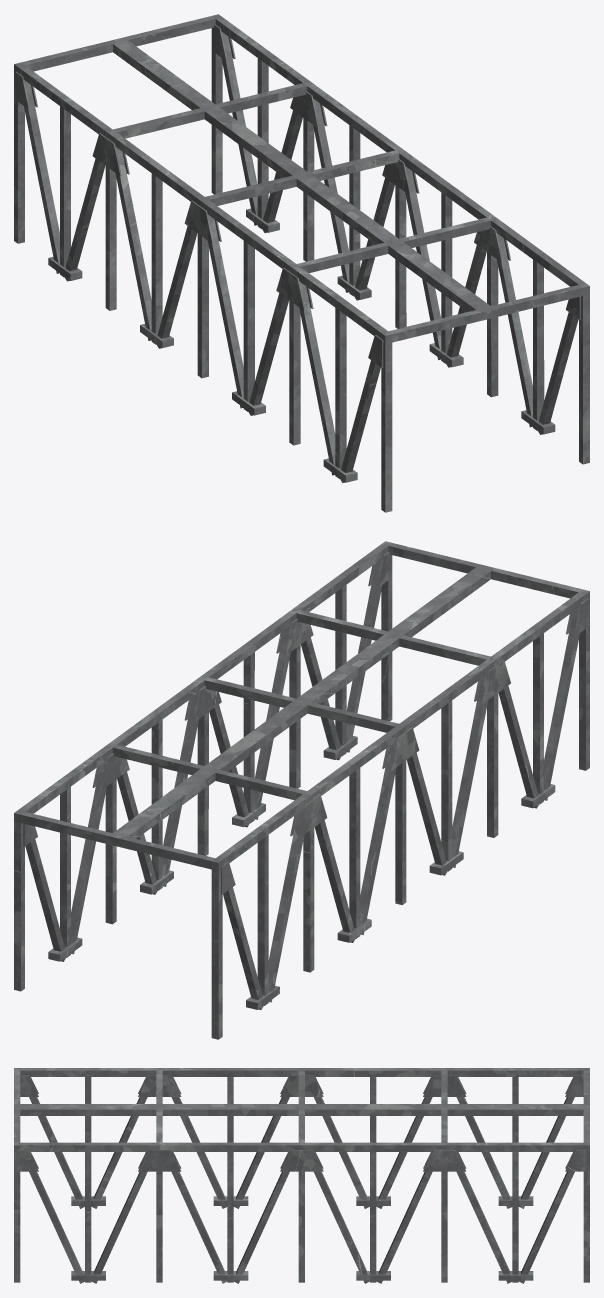
File: Bridge.fbx
The picture shows the model from 3 angles, top to bottom: view 1: azimuth 30°, elevation 25°; view 2: azimuth 150°, elevation 25°; view 3: azimuth 270°, elevation 25°; orthographic projection. The views are drawn at different scales.
Parts seen in each view (by area): view 1: 497cf374499741e096242c60b124319f.obj.001; view 2: 497cf374499741e096242c60b124319f.obj.001; view 3: 497cf374499741e096242c60b124319f.obj.001.
Part boxes in pixels (x1,y1,x2,y2): 497cf374499741e096242c60b124319f.obj.001: [14, 14, 589, 512]; 497cf374499741e096242c60b124319f.obj.001: [14, 541, 589, 1039]; 497cf374499741e096242c60b124319f.obj.001: [14, 1068, 589, 1283].
Bounding box in the file's own units: 17845 × 14541 × 54823.
